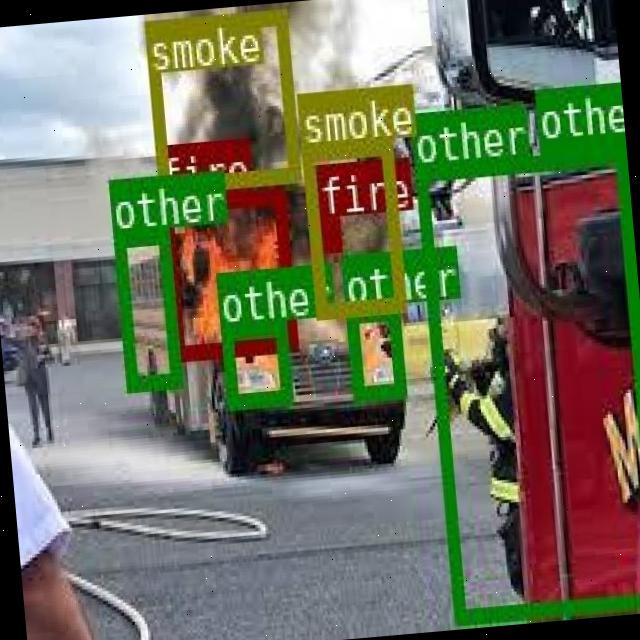fire: (159, 187, 296, 357), (319, 214, 338, 248)
smoke: (144, 6, 298, 190), (301, 138, 403, 314)
